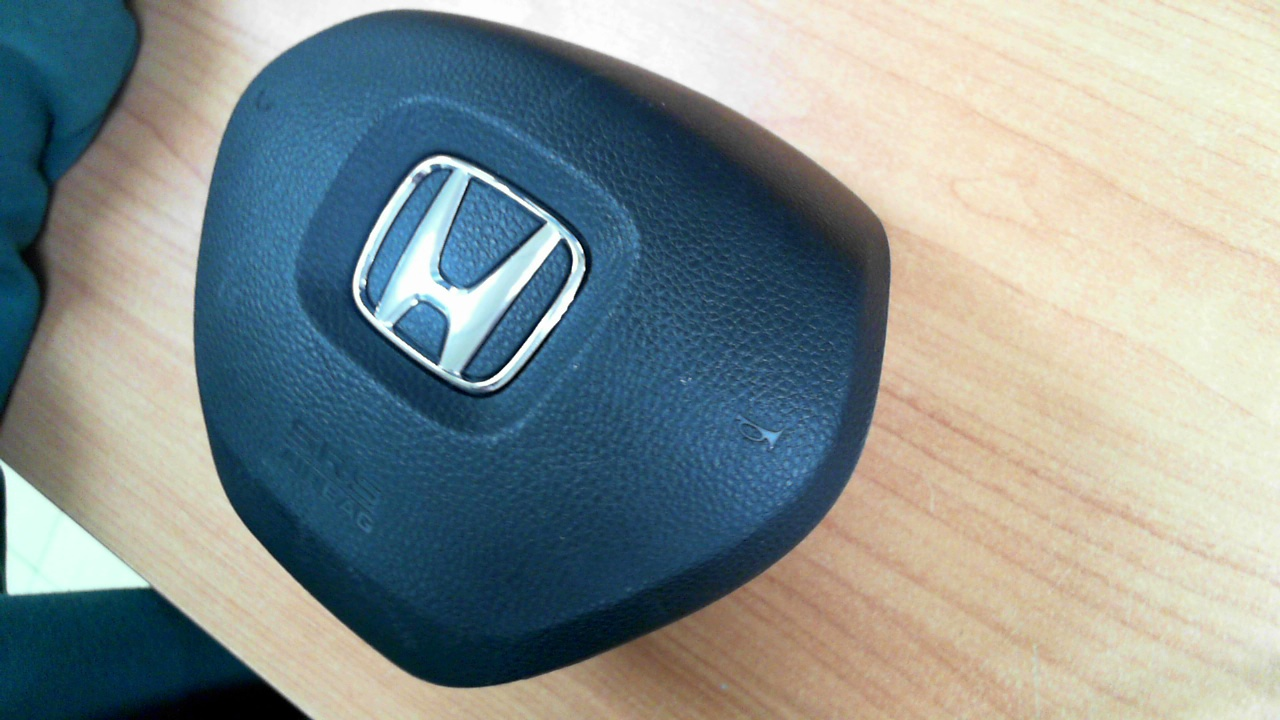Airbag: (171, 13, 880, 687)
Honda: (351, 154, 587, 395)
